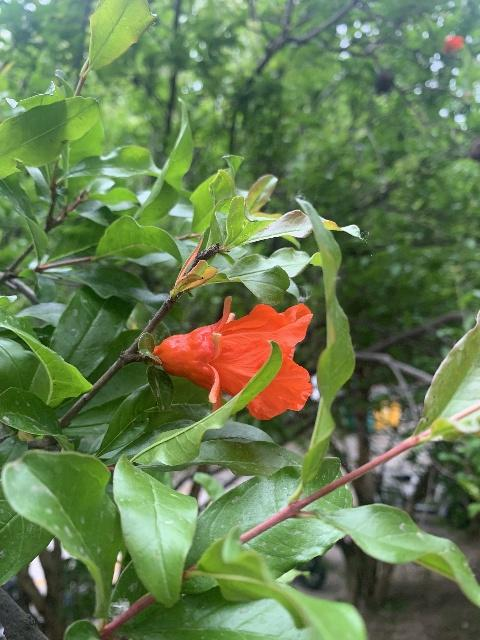flower: (152, 294, 313, 419)
